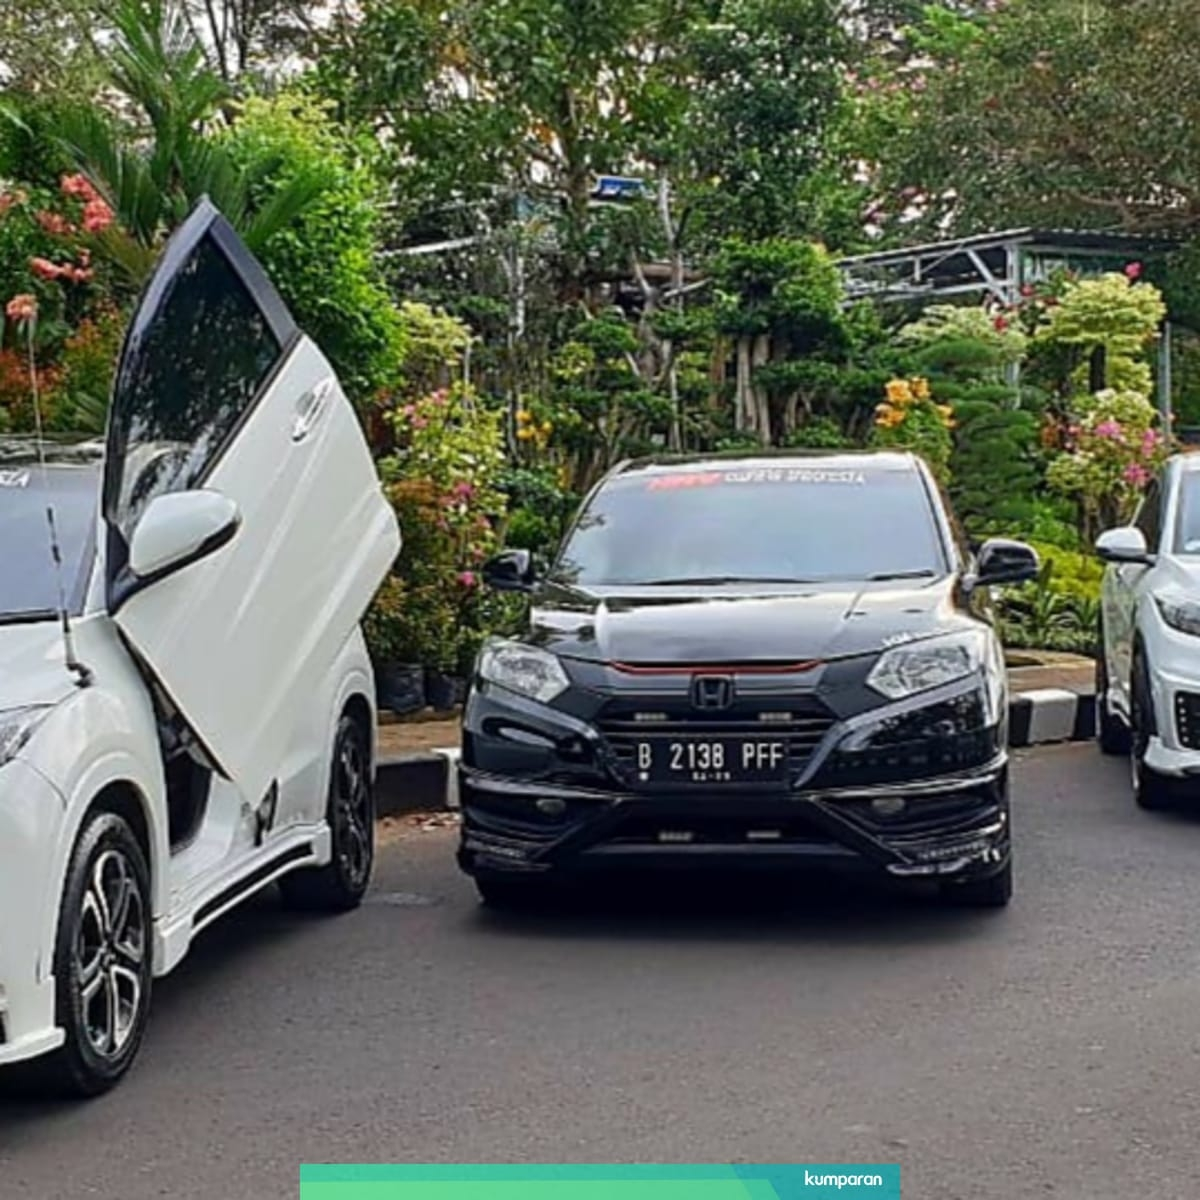plate: (635, 739, 792, 794)
